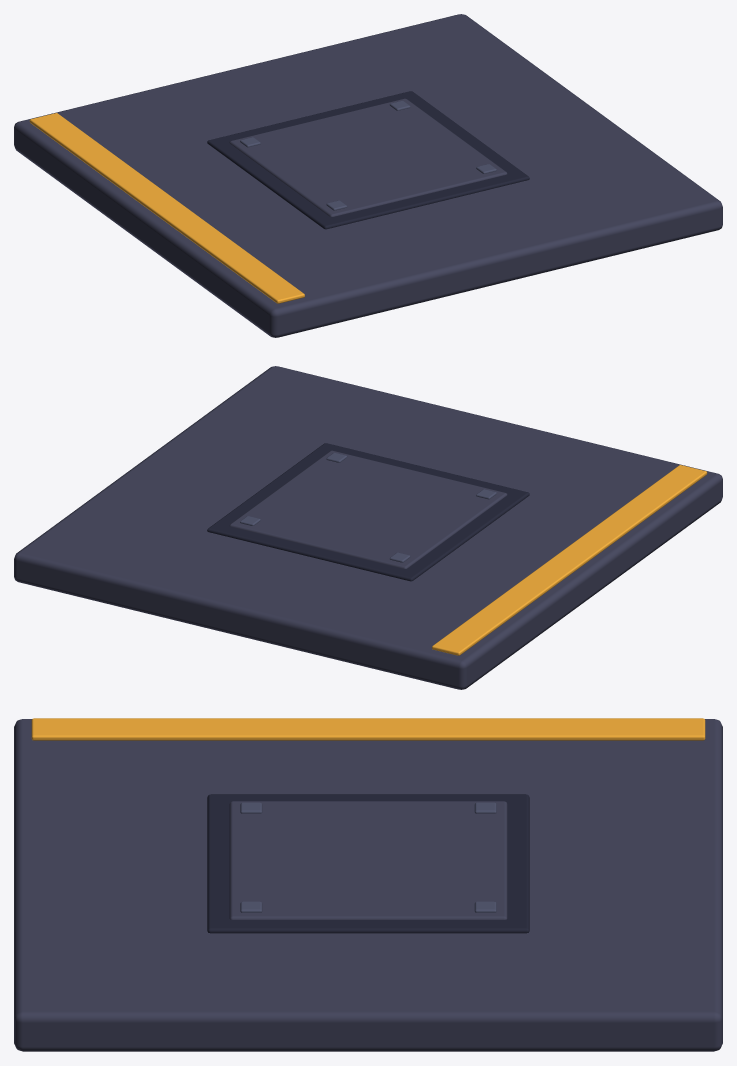
Rendered from floor.access+hzx.glb.
The picture shows the model from 3 angles, top to bottom: view 1: azimuth 30°, elevation 25°; view 2: azimuth 150°, elevation 25°; view 3: azimuth 270°, elevation 25°; orthographic projection. The views are drawn at different scales.
Visible parts, largest first — view 1: floor.access+hzx; view 2: floor.access+hzx; view 3: floor.access+hzx.
Part boxes in pixels (left/top/right/bottom): floor.access+hzx: left=14, top=14, right=722, bottom=337; floor.access+hzx: left=14, top=366, right=722, bottom=689; floor.access+hzx: left=14, top=718, right=722, bottom=1051.
Bounding box in the file's own units: 0.968 × 0.074 × 0.968.
